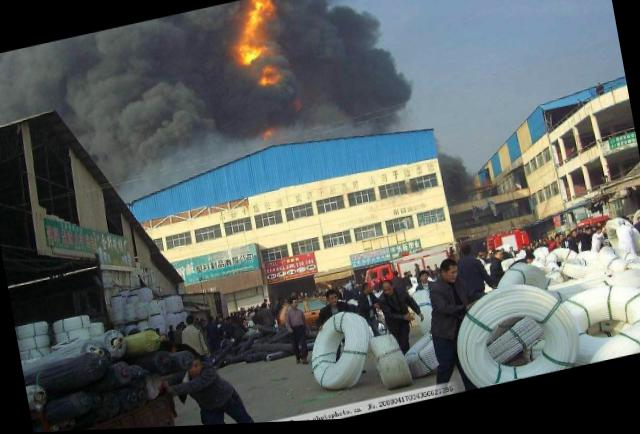fire: (241, 0, 277, 34), (235, 35, 265, 69), (252, 63, 283, 91)
